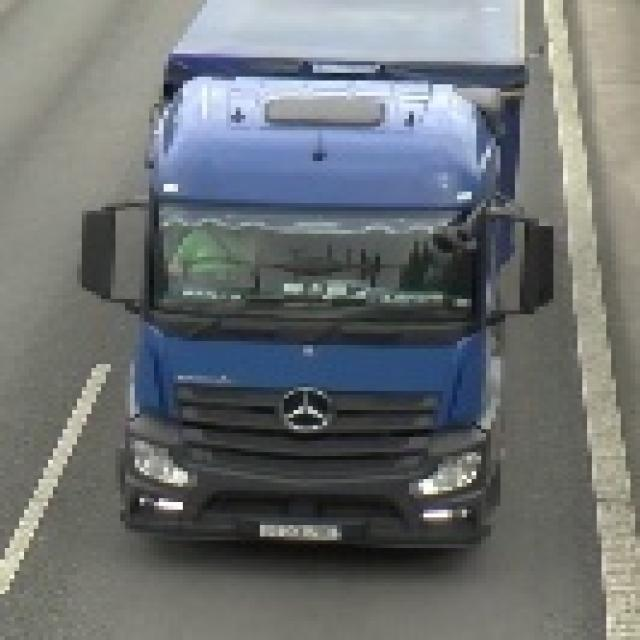TRUCK: (78, 0, 549, 556)
